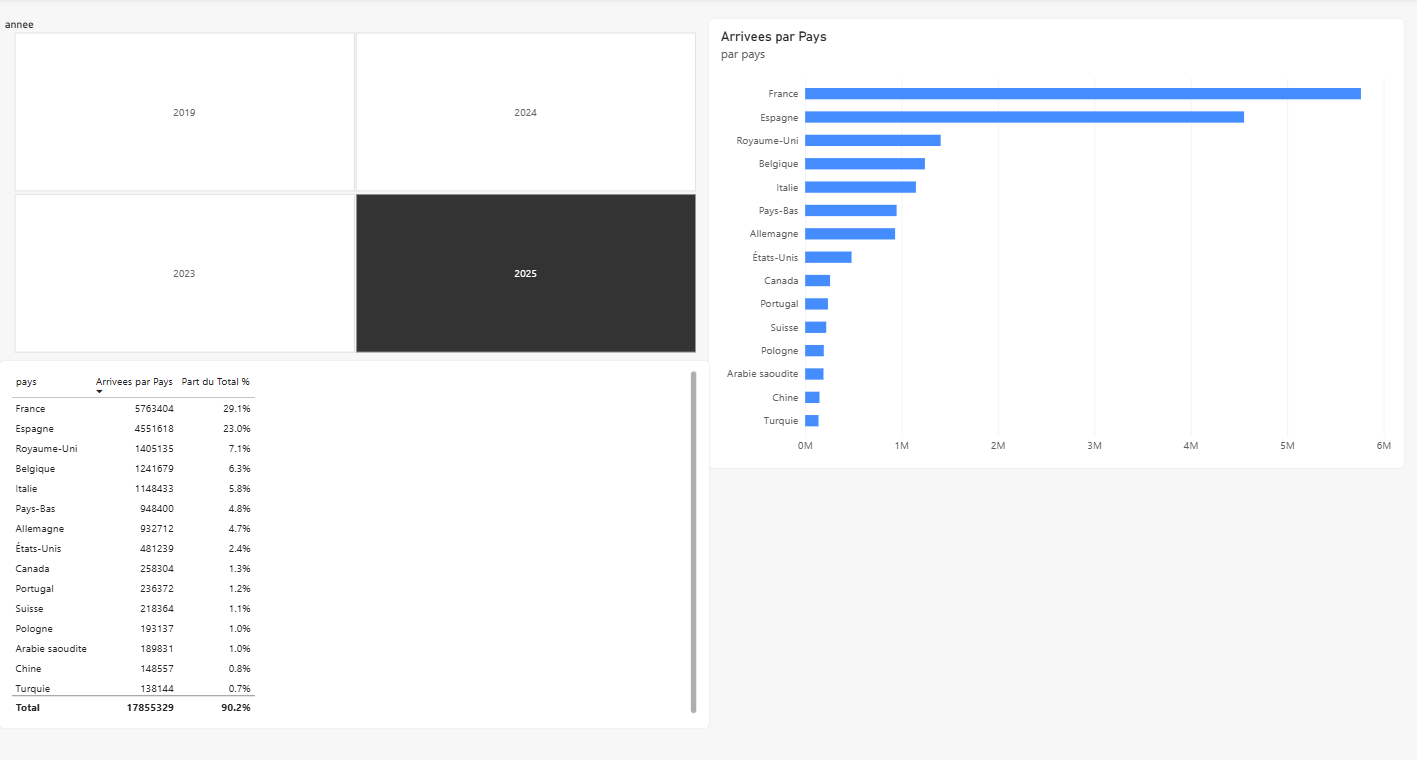

The page's visual inventory and layout, read from the dashboard file:
{"tool":"powerbi","page":{"name":"Marchés émetteurs","canvas":[1920,1080],"ordinal":1},"visuals":[{"type":"slicer","fields":{"Values":["fact_nationalite.annee"]},"box":[0,0,960.8,454.3],"z":0},{"type":"clusteredBarChart","fields":{"Category":["fact_nationalite.pays"],"Y":["fact_nationalite.Arrivees par Pays"]},"box":[961,0,941.1,609.5],"z":1},{"type":"tableEx","fields":{"Values":["fact_nationalite.pays","fact_nationalite.Arrivees par Pays","fact_nationalite.Part du Total %"]},"box":[0,453.5,961,498.9],"z":2}]}

Visuals, with their boxes on the page's 1920x1080 design canvas (x1, y1, x2, y2). These are canvas units, not pixel positions in the 1417x760 screenshot, which may show the page scaled, cropped or inside an application window:
slicer - fact_nationalite.annee: detection(0, 0, 961, 454)
clusteredBarChart - fact_nationalite.pays x fact_nationalite.Arrivees par Pays: detection(961, 0, 1902, 610)
tableEx - fact_nationalite.pays x fact_nationalite.Arrivees par Pays: detection(0, 454, 961, 952)
